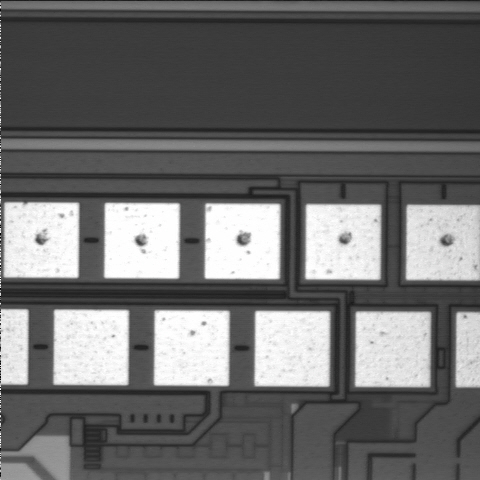pad: (104, 203, 180, 279), (305, 204, 381, 280), (154, 310, 230, 386), (254, 311, 330, 387), (4, 202, 79, 278), (205, 203, 280, 279), (53, 310, 129, 385), (355, 312, 431, 387)
